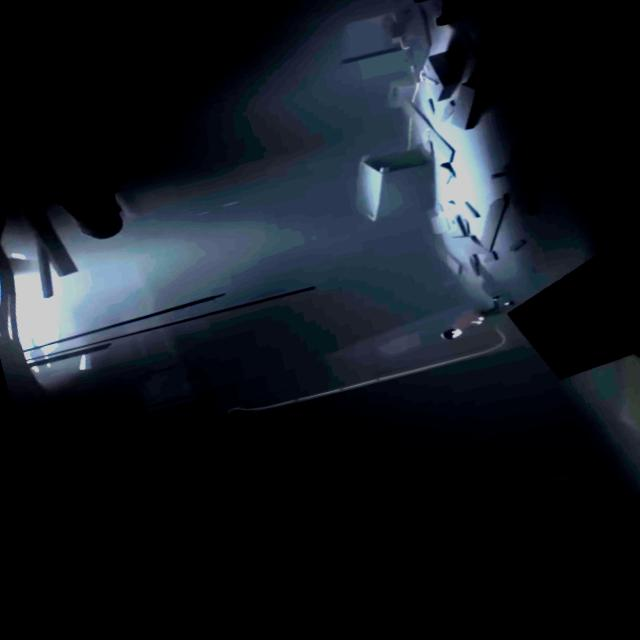boy: (435, 290, 521, 340)
